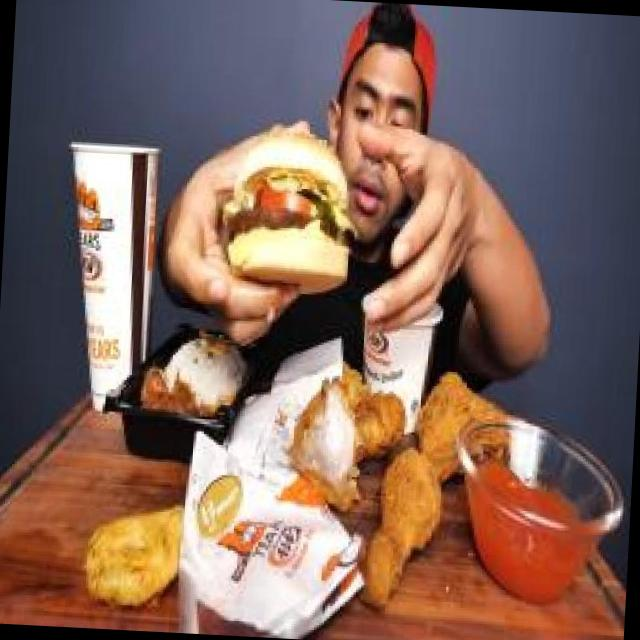AW cola: (48, 116, 172, 416)
black pepper rice bowl: (137, 313, 256, 439)
fried chicken: (278, 366, 515, 604)
mozza burger: (218, 125, 370, 320)
perkedel: (77, 488, 203, 619)
